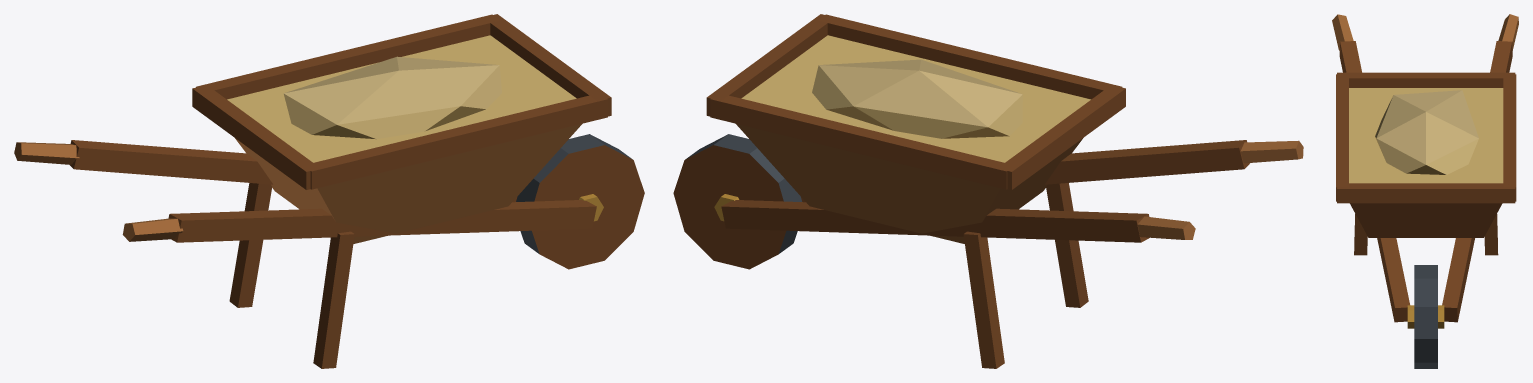
File: wheelbarrow.glb
3 views of the same model, side by side, from view 1: azimuth 30°, elevation 25°; view 2: azimuth 150°, elevation 25°; view 3: azimuth 270°, elevation 25° (orthographic). The views are drawn at different scales.
Parts seen in each view (by area): view 1: wheelbarrow; view 2: wheelbarrow; view 3: wheelbarrow.
Boxes of the visible parts, left/top/right/bottom form: wheelbarrow: left=14, top=14, right=644, bottom=368; wheelbarrow: left=673, top=14, right=1303, bottom=368; wheelbarrow: left=1332, top=14, right=1518, bottom=368.
Bounding box in the file's own units: 1.95 × 0.7804 × 0.7142.
